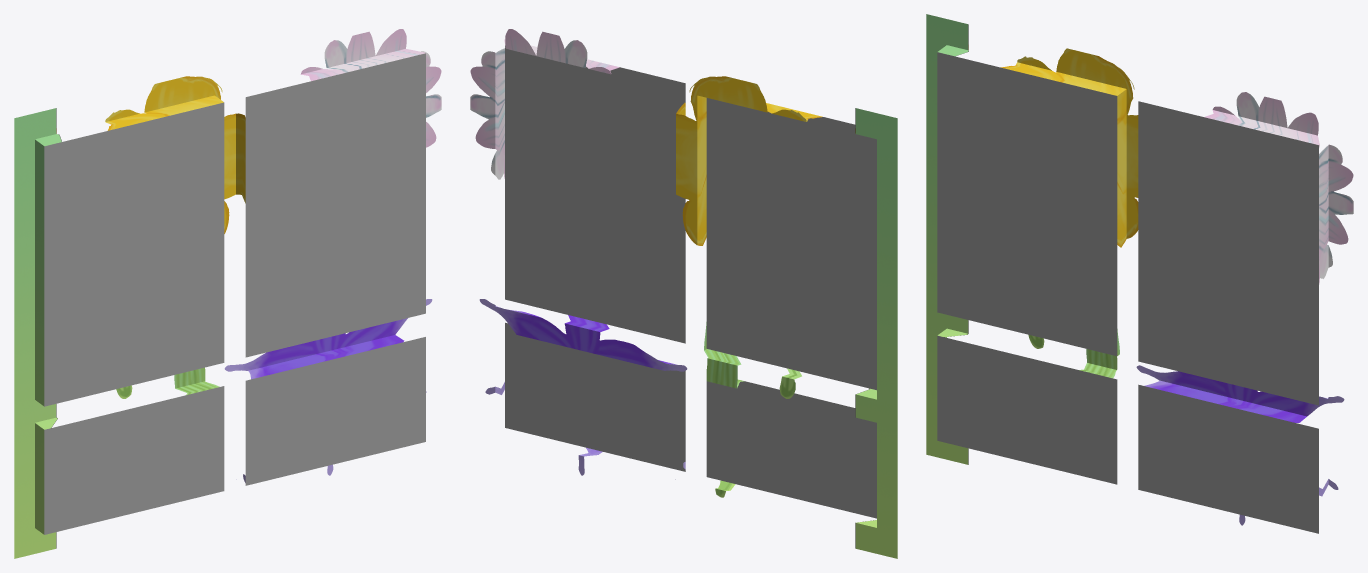
File: window.fbx
3 views of the same model, side by side, from view 1: azimuth 30°, elevation 25°; view 2: azimuth 150°, elevation 25°; view 3: azimuth 330°, elevation 25° (orthographic).
Parts seen in each view (by area): view 1: window; view 2: window; view 3: window.
Part boxes in pixels (x1,y1,x2,y2): window: [14, 29, 441, 558]; window: [470, 29, 897, 558]; window: [926, 14, 1353, 533].
Size of the model in its own units: 213 by 210 by 8.27.
